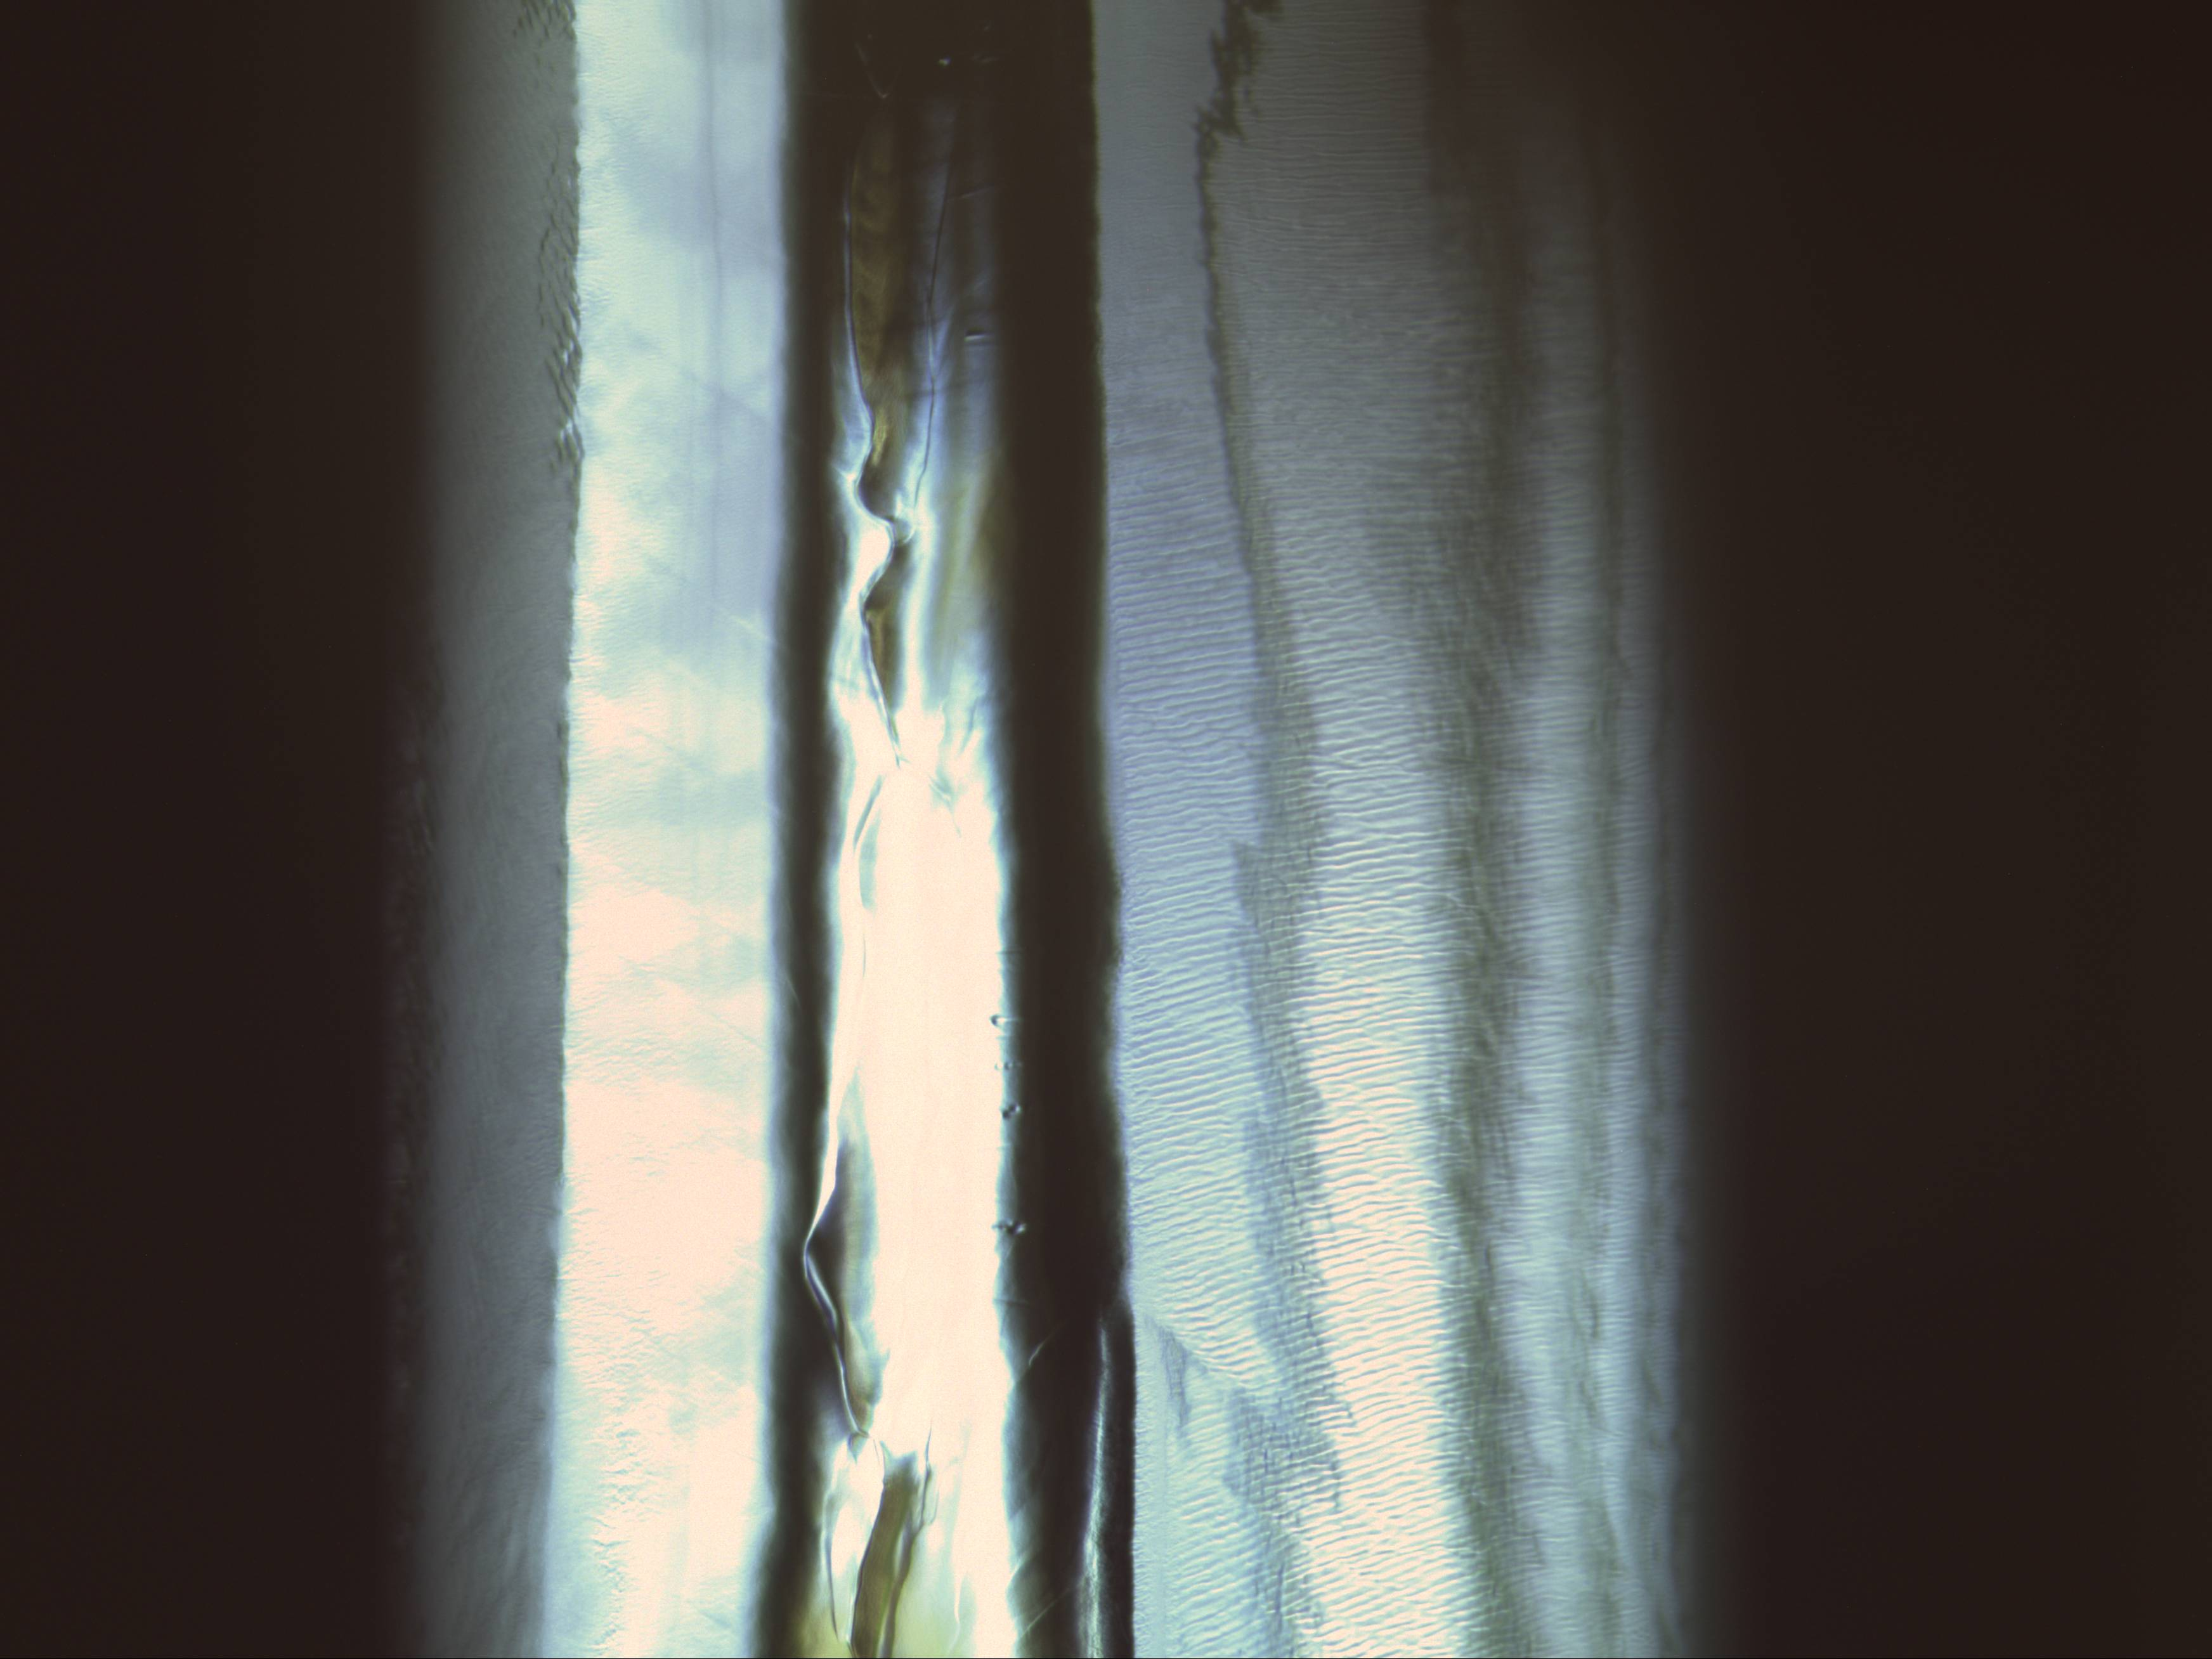defect: (988, 1213, 1029, 1246), (988, 1009, 1026, 1035), (995, 1101, 1024, 1133)
